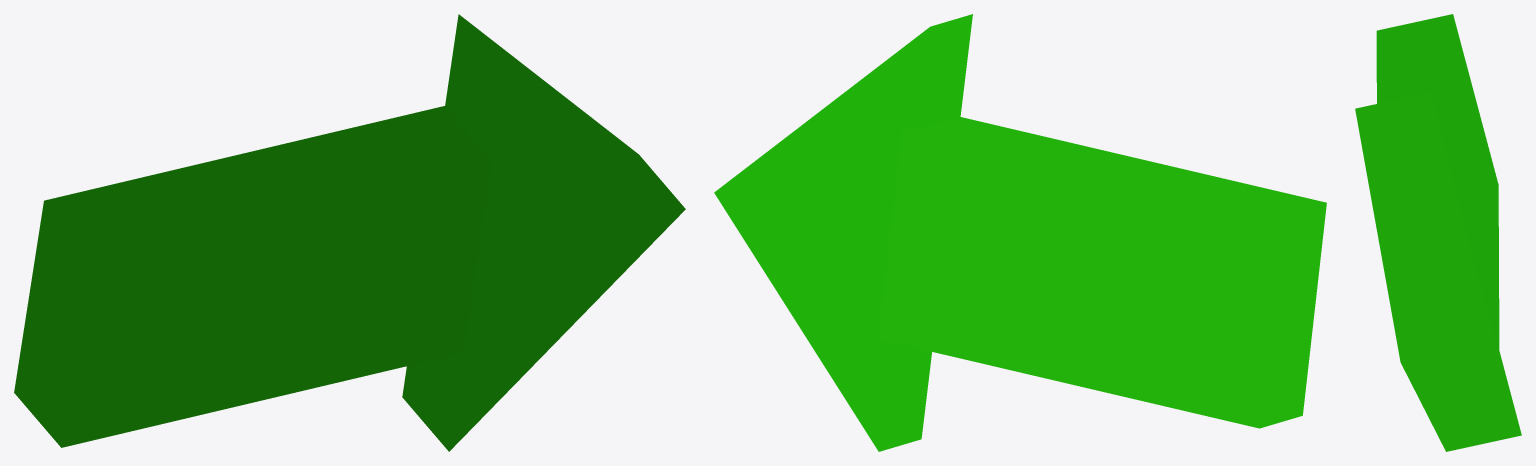
The model's file is arrow.fbx.
The picture shows the model from 3 angles, left to right: view 1: azimuth 30°, elevation 25°; view 2: azimuth 150°, elevation 25°; view 3: azimuth 270°, elevation 25°; orthographic projection. The views are drawn at different scales.
Visible parts, largest first — view 1: node_id10, node_id12; view 2: node_id10, node_id12; view 3: node_id12, node_id10.
Boxes of the visible parts, box(x1,y1,x2,y2) form: node_id10: box(14, 106, 491, 447); node_id12: box(402, 14, 685, 451); node_id10: box(878, 117, 1326, 428); node_id12: box(714, 14, 972, 451); node_id12: box(1355, 92, 1521, 451); node_id10: box(1376, 14, 1499, 352).
Bounding box in the file's own units: 0.0245 × 0.0171 × 0.00717.
